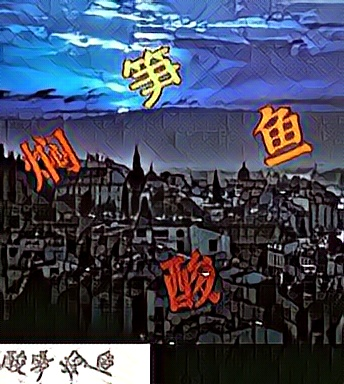CBE1: (158, 247, 225, 311)
CBF1: (118, 44, 185, 108)
D3E3: (251, 102, 318, 166)
ECCB: (17, 128, 84, 192)
